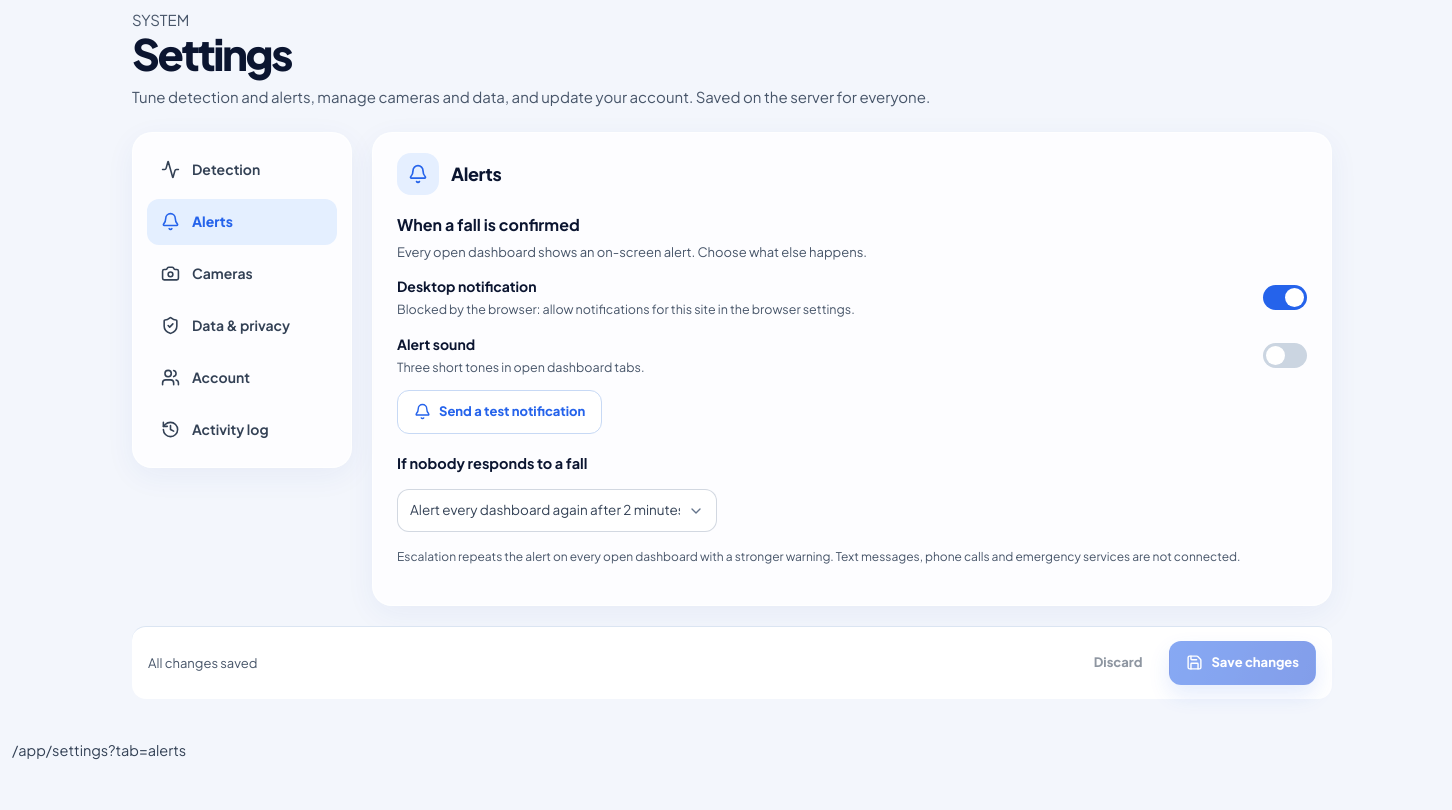
Test: Settings › saves the escalation delay and shows the activity log
The width and height of the screenshot is (1452, 810).
Step 1. Select "Alert every dashboard again after 5 minutes" in the dropdown labelled "If nobody responds to a fall" → (557, 511), box [397,489,717,532]
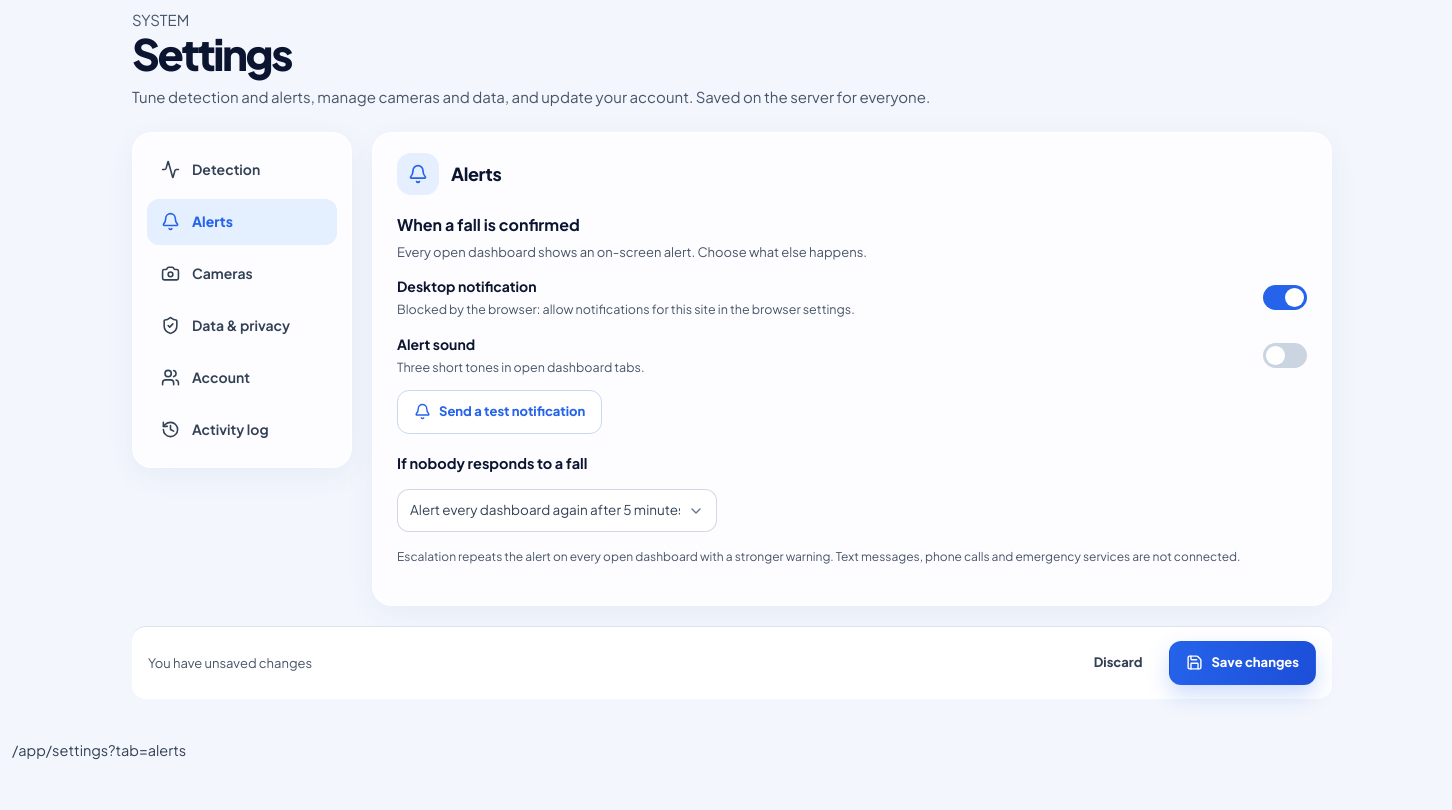
Step 2. Click the button "Save changes" → (1243, 663), box [1170,641,1316,685]
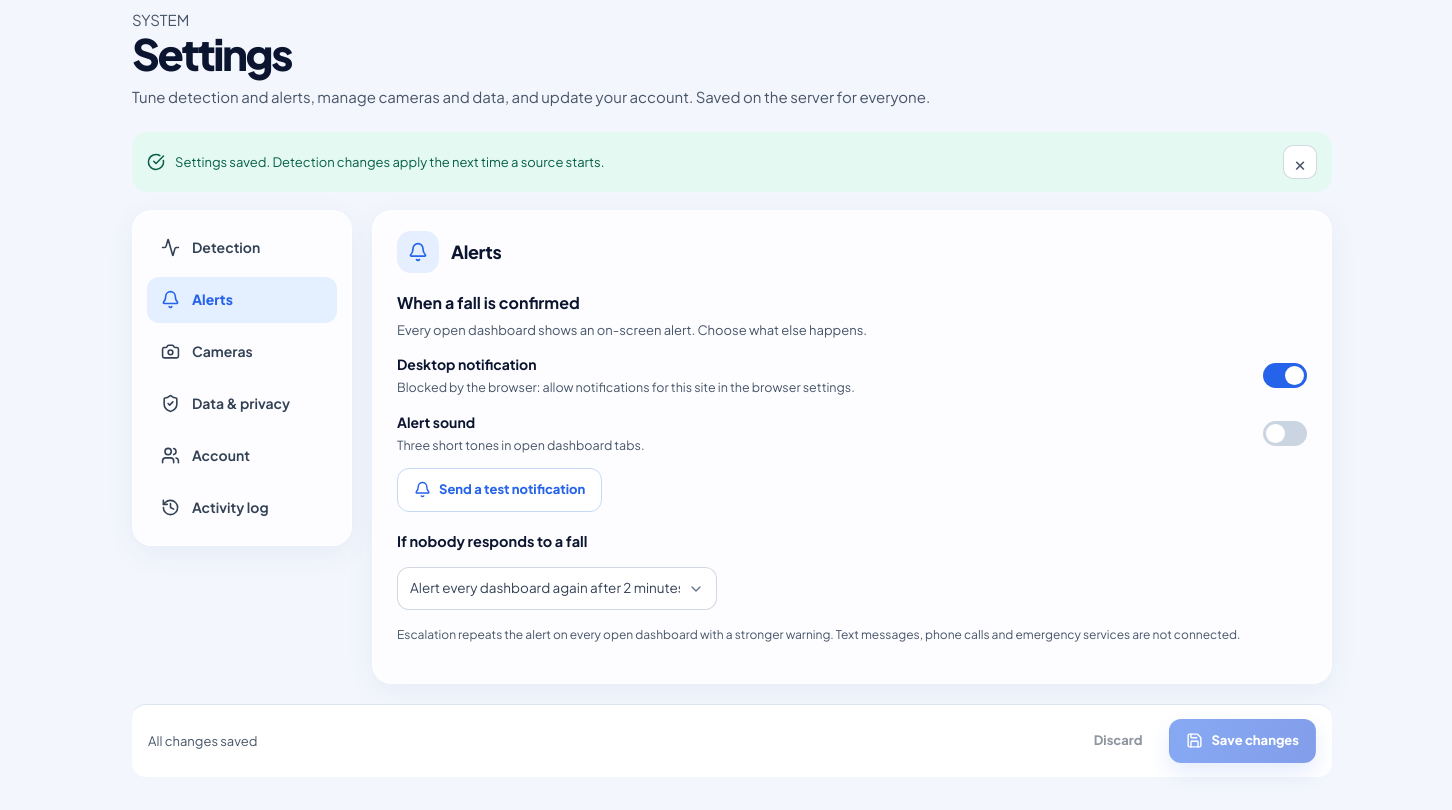
Step 3. Click the button "Activity log" → (242, 508), box [147,485,337,531]
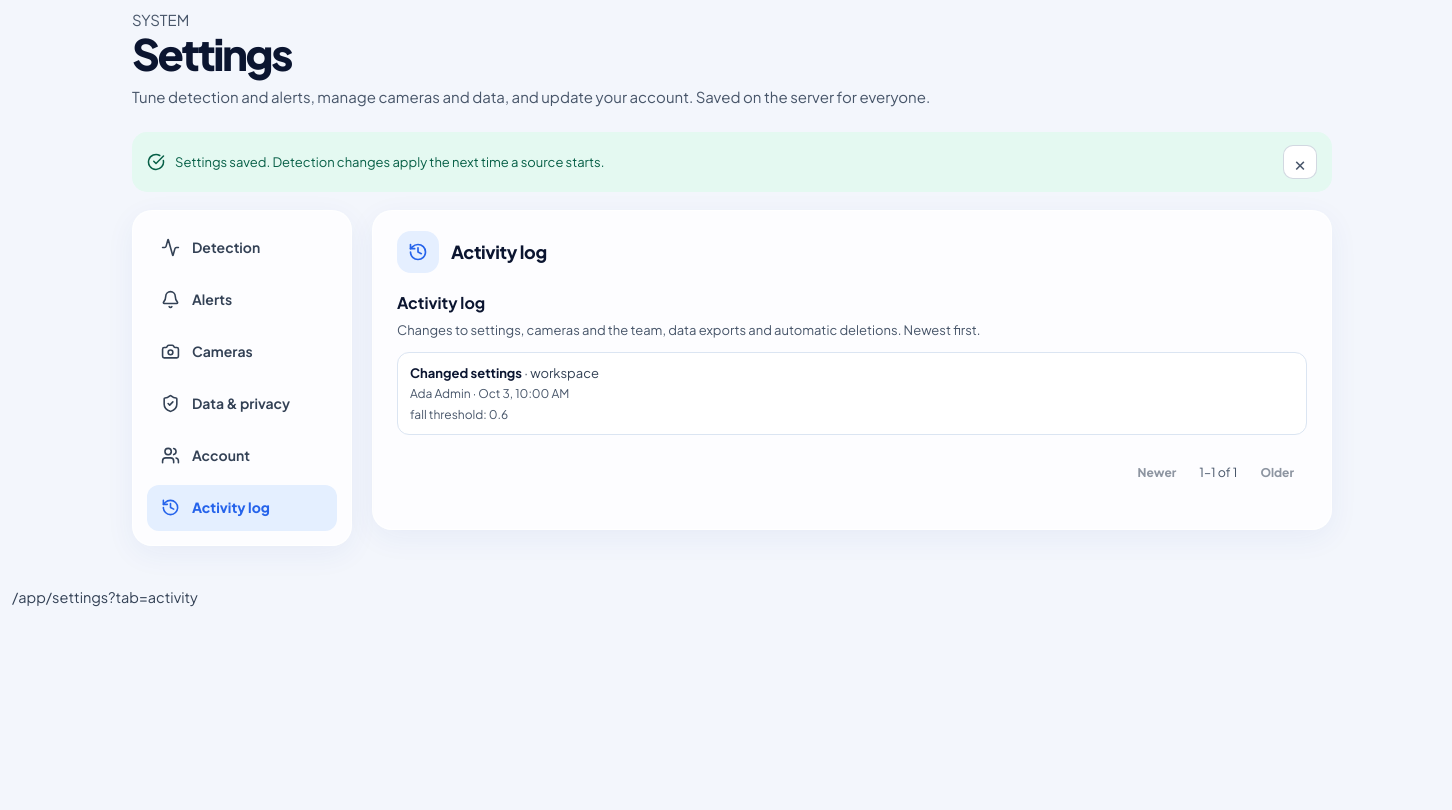
expect the text "Changed settings" is shown: met, box [410,365,522,381]
expect the text "fall threshold: 0.6" is shown: met, box [410,406,508,422]
